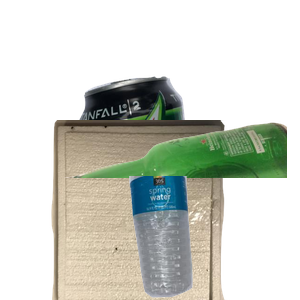glass: (60, 120, 300, 300)
metal: (74, 74, 257, 254)
plastic: (127, 176, 300, 300)
trash: (49, 120, 269, 300)
